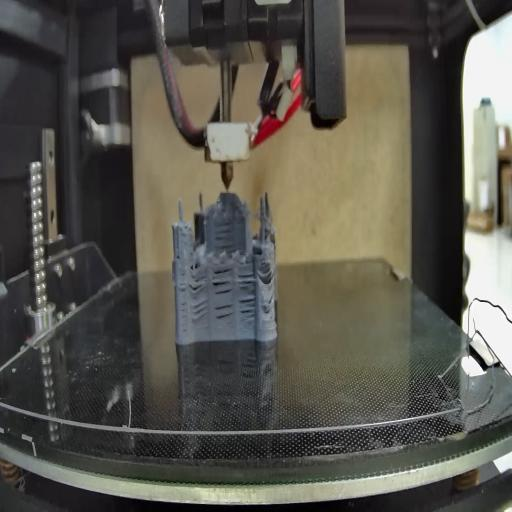cracks: (237, 273, 256, 321), (214, 220, 236, 256), (210, 263, 234, 295), (180, 275, 188, 338), (190, 272, 208, 296), (215, 302, 234, 324), (192, 301, 209, 324), (260, 265, 277, 284), (261, 291, 274, 315), (176, 247, 181, 262)
